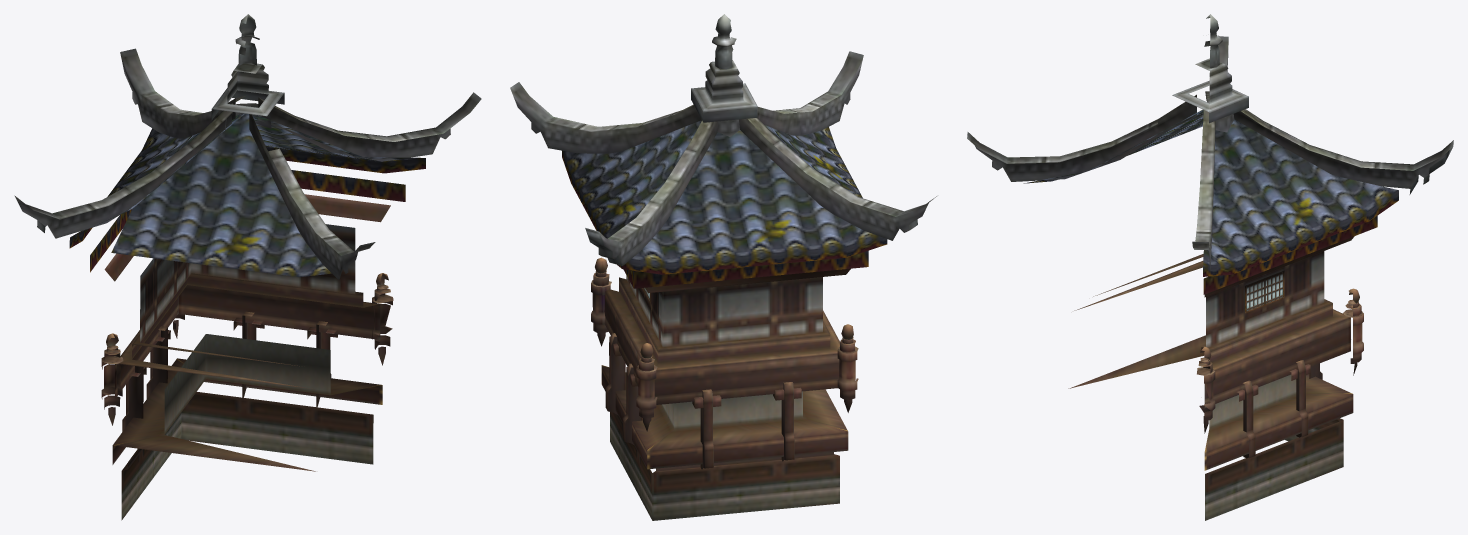
File: S2_Build_XSC016_H2.FBX
The picture shows the model from 3 angles, left to right: view 1: azimuth 30°, elevation 25°; view 2: azimuth 150°, elevation 25°; view 3: azimuth 270°, elevation 25°; orthographic projection. The views are drawn at different scales.
Visible parts, largest first — view 1: S2_Build_XSC016_H2; view 2: S2_Build_XSC016_H2; view 3: S2_Build_XSC016_H2.
Boxes of the visible parts, x1=… form: S2_Build_XSC016_H2: x1=14, y1=14, x2=481, y2=520; S2_Build_XSC016_H2: x1=510, y1=14, x2=936, y2=520; S2_Build_XSC016_H2: x1=967, y1=14, x2=1453, y2=520.
Bounding box in the file's own units: 4206 × 4281 × 4187.
